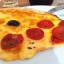olives: (5, 19, 23, 27)
pepperoni: (1, 31, 26, 51), (50, 18, 64, 46), (25, 27, 45, 43), (35, 16, 54, 29)
pizza: (1, 8, 63, 58)
